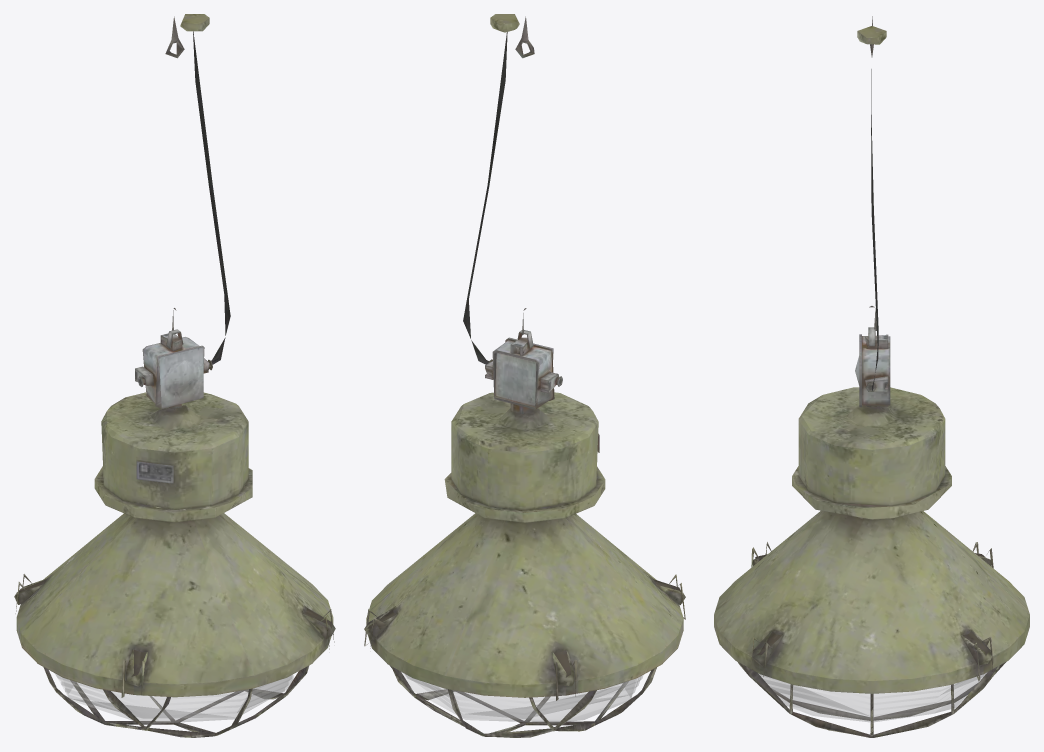
File: hanging_industrial_lamp.glb
3 views of the same model, side by side, from view 1: azimuth 30°, elevation 25°; view 2: azimuth 150°, elevation 25°; view 3: azimuth 270°, elevation 25° (orthographic).
Visible parts, largest first — view 1: hanging_industrial_lamp; view 2: hanging_industrial_lamp; view 3: hanging_industrial_lamp.
Part boxes in pixels (box(x1,y1,x2,y2)): hanging_industrial_lamp: box(14, 14, 335, 737); hanging_industrial_lamp: box(364, 14, 685, 737); hanging_industrial_lamp: box(714, 16, 1029, 737).
Size of the model in its own units: 0.5496 by 1.36 by 0.5496.
Materials: 2 (1 with a texture image).
